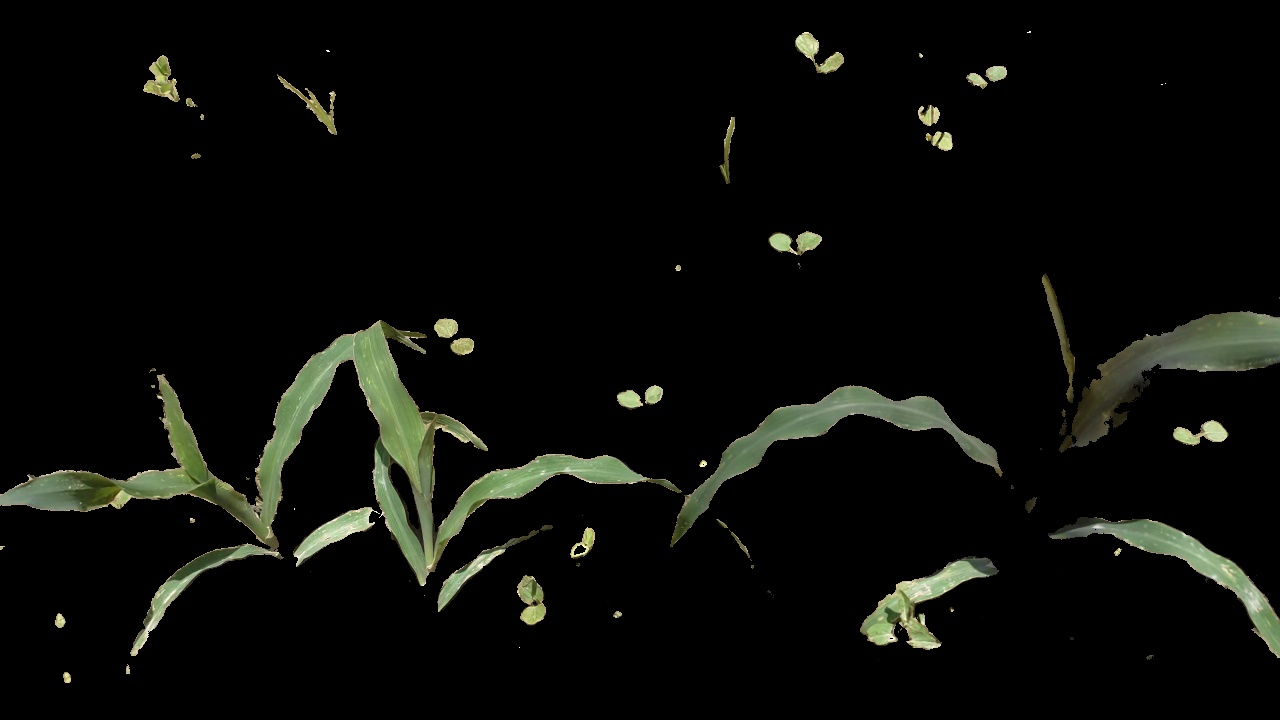crop: (673, 263, 1280, 681), (1, 321, 364, 677), (350, 305, 588, 655)
weed: (134, 39, 211, 124), (269, 75, 353, 133), (908, 97, 967, 162), (1172, 416, 1234, 465), (428, 305, 482, 359), (783, 33, 846, 75), (714, 107, 743, 187), (762, 223, 833, 255), (615, 381, 669, 419), (514, 574, 551, 626), (566, 520, 605, 568), (956, 61, 1020, 90)
